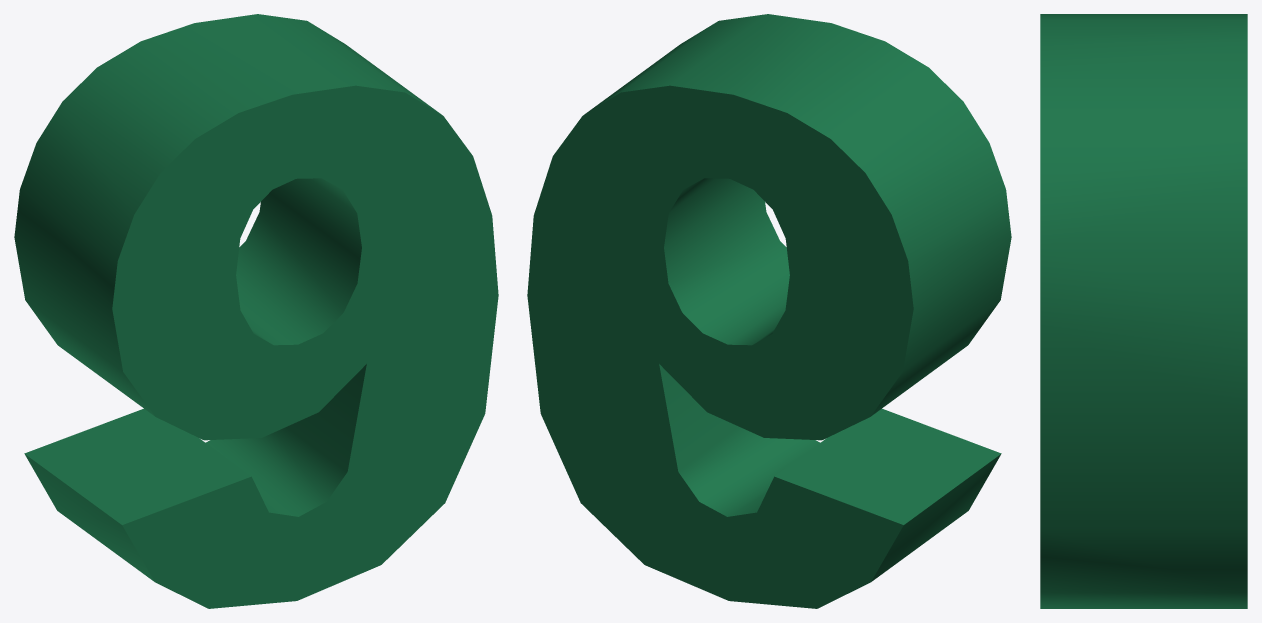
File: nine.glb
3 views of the same model, side by side, from view 1: azimuth 30°, elevation 25°; view 2: azimuth 150°, elevation 25°; view 3: azimuth 270°, elevation 25° (orthographic). The views are drawn at different scales.
Visible parts, largest first — view 1: Object_2; view 2: Object_2; view 3: Object_2.
Part boxes in pixels (x1,y1,x2,y2): Object_2: [14, 14, 498, 608]; Object_2: [527, 14, 1011, 608]; Object_2: [1040, 14, 1247, 608].
Bounding box in the file's own units: 9.11 × 11.44 × 4.
